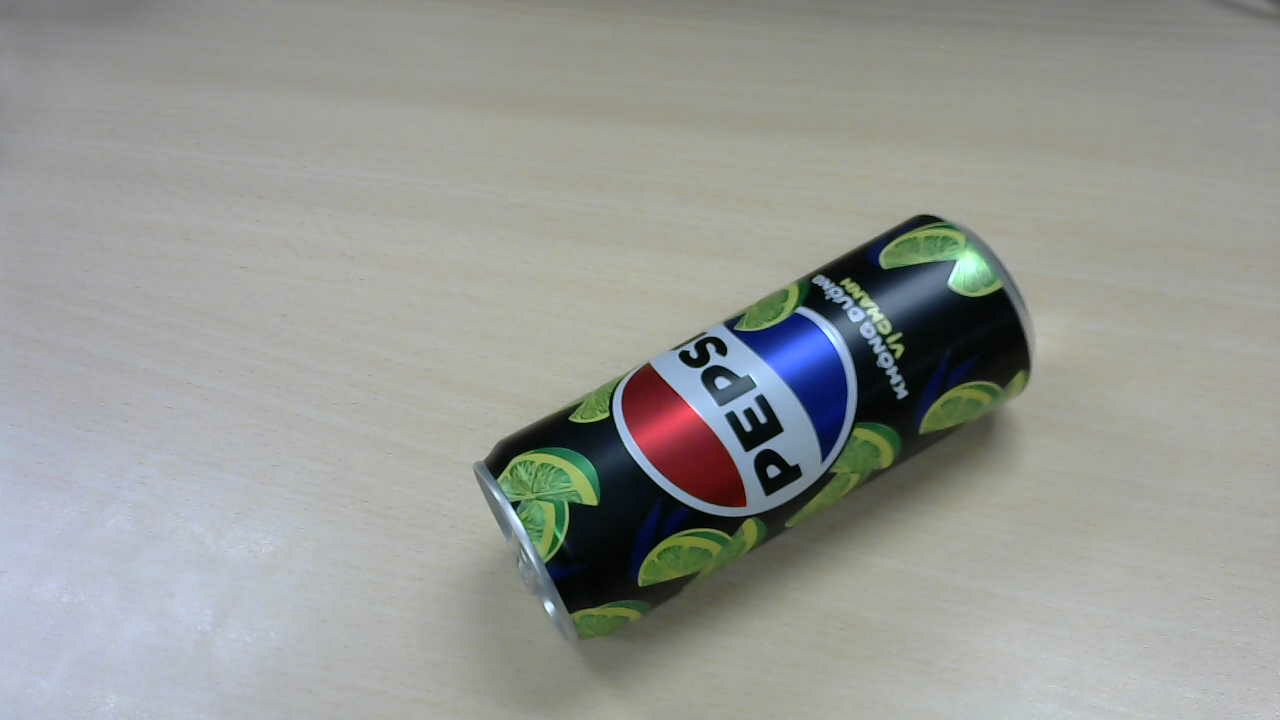Pepsi: (475, 216, 1039, 648)
